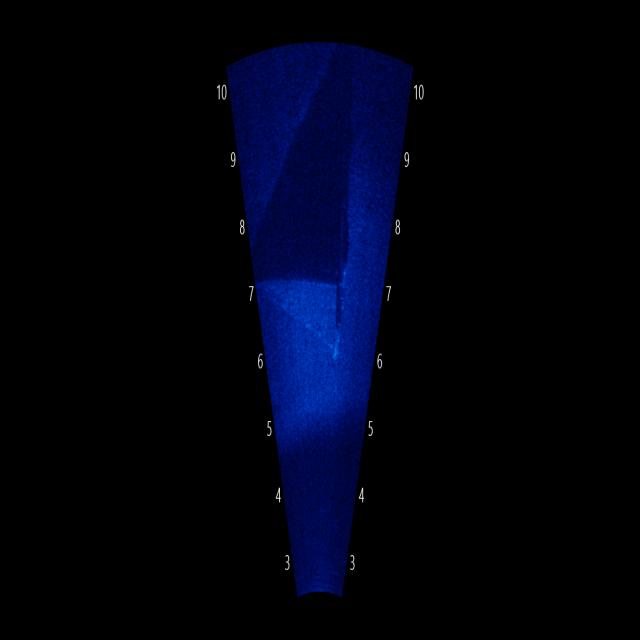triangle: (276, 242, 355, 369)
